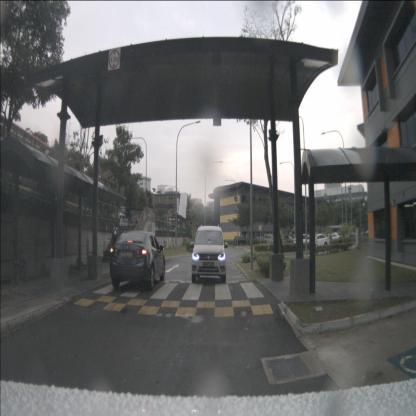human-pedestrian-adult: (112, 223, 120, 258)
vehicle-bicycle: (13, 245, 29, 286)
vehicle-car: (110, 232, 166, 291), (192, 226, 226, 283), (293, 234, 318, 249), (310, 233, 330, 249), (112, 212, 128, 228), (327, 232, 344, 243), (264, 234, 278, 246), (282, 235, 295, 245), (233, 236, 247, 245)
